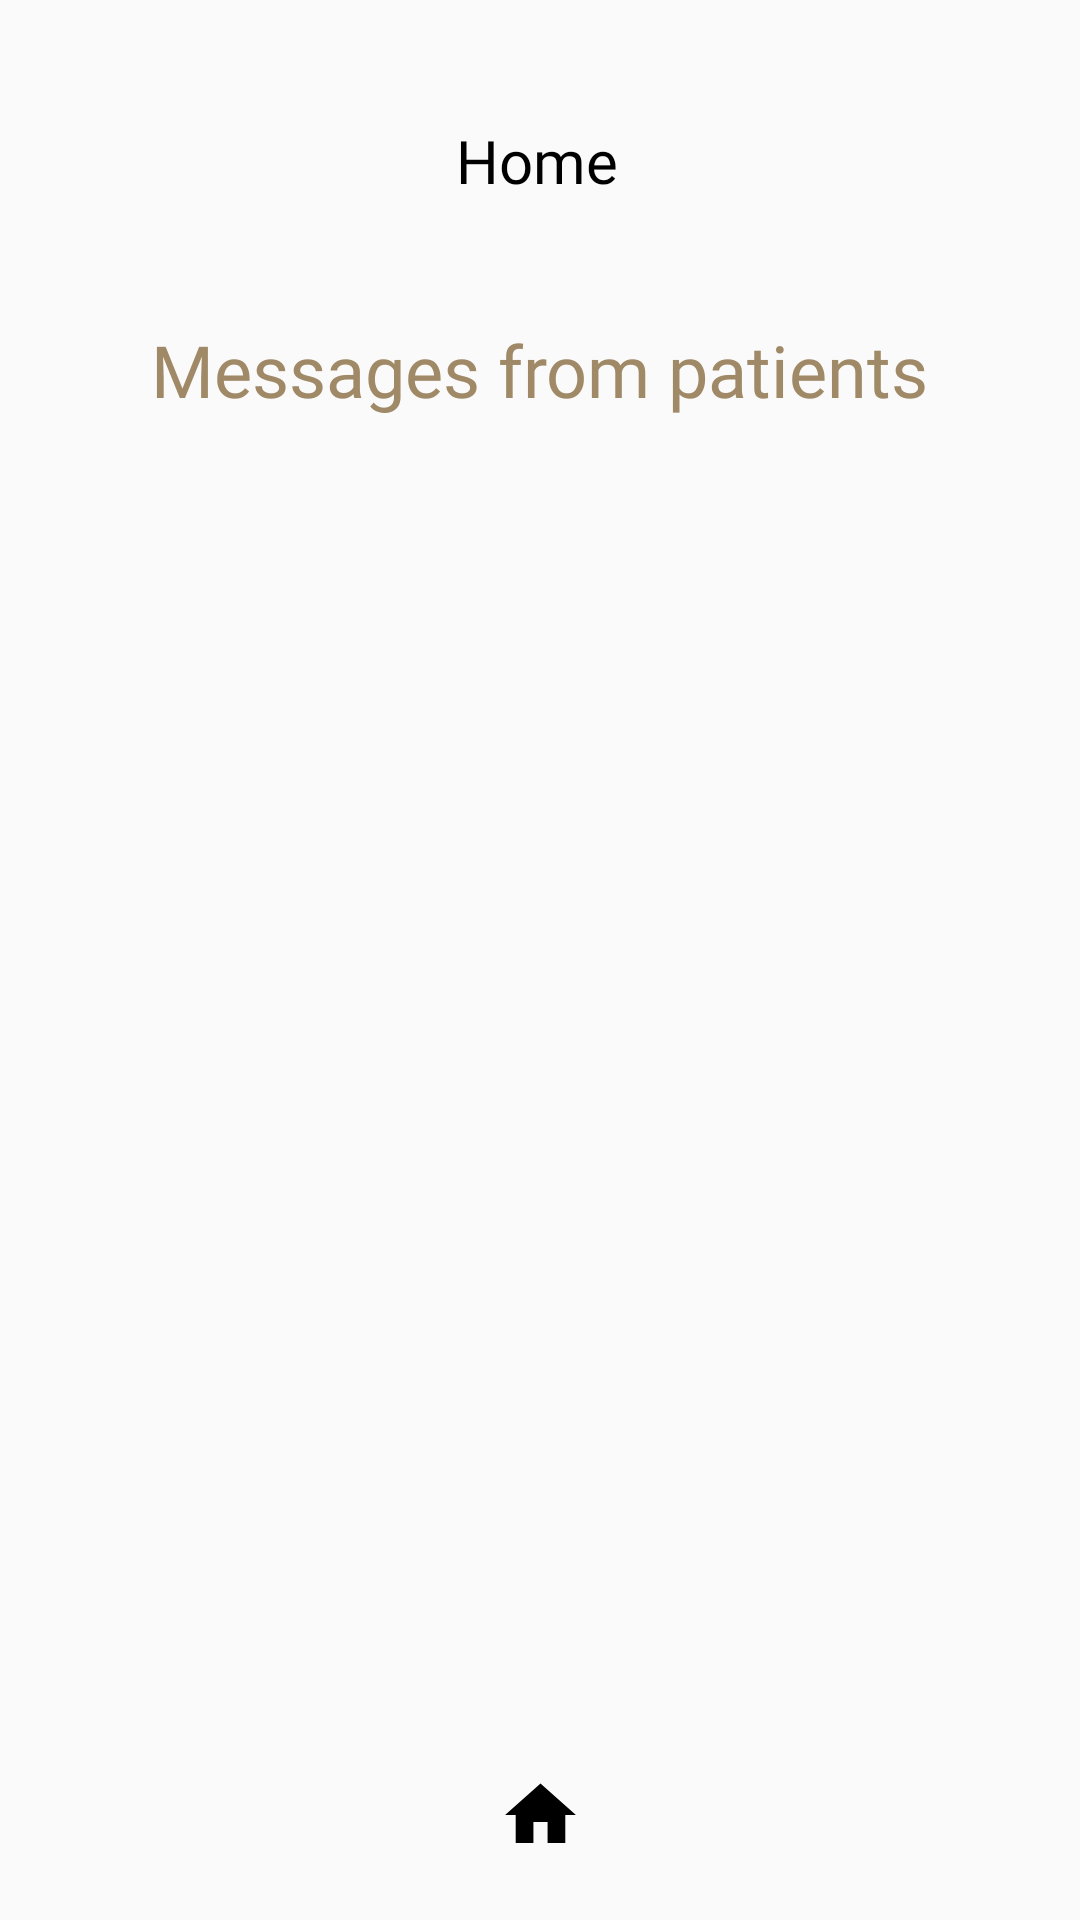

Icon bounding boxes for this 1080w x 1920h phone screenshot, format (left=x1, top=y1, right=x2, bottom=y2):
Home: (left=505, top=1783, right=576, bottom=1843)
